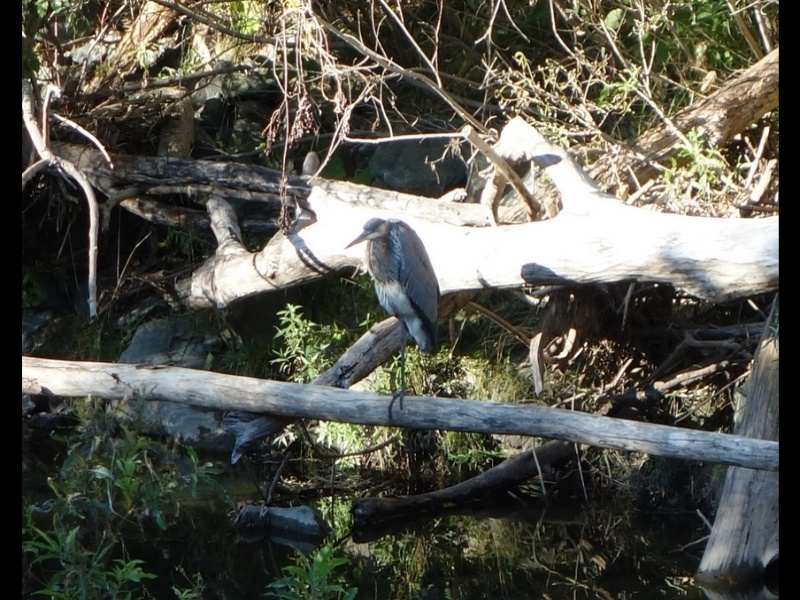heron: (347, 216, 450, 387)
